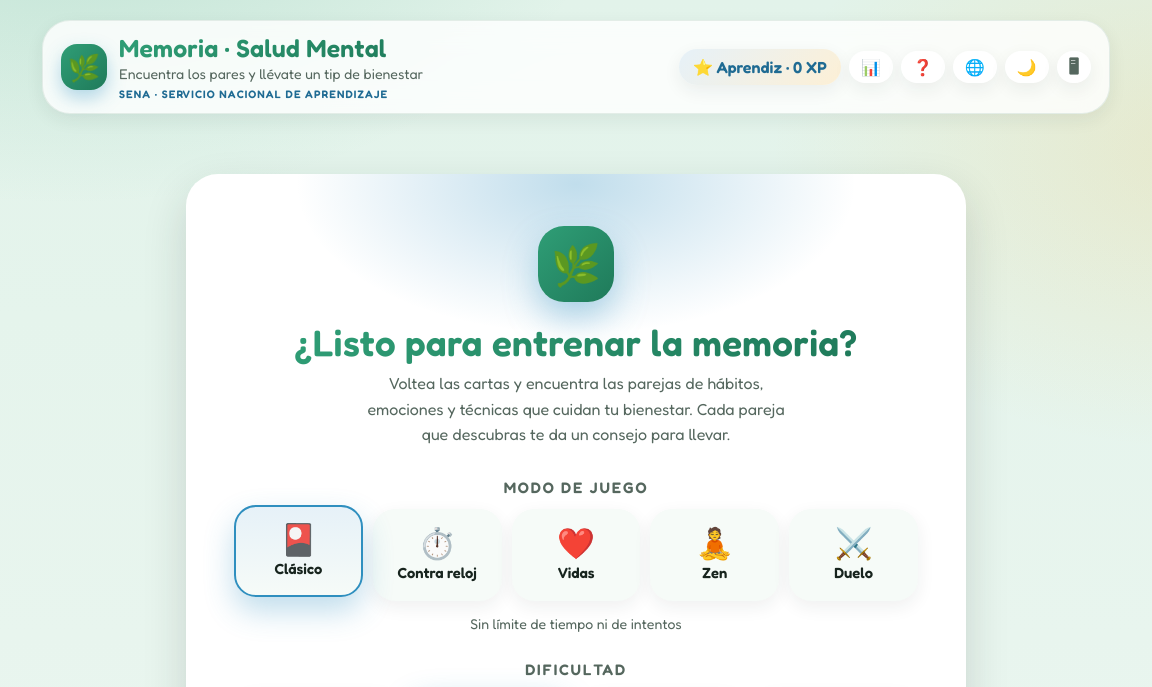
it: i18n › alterna entre inglés y español
Click the button named "Cambiar idioma": (975, 67) [953,51,997,83]
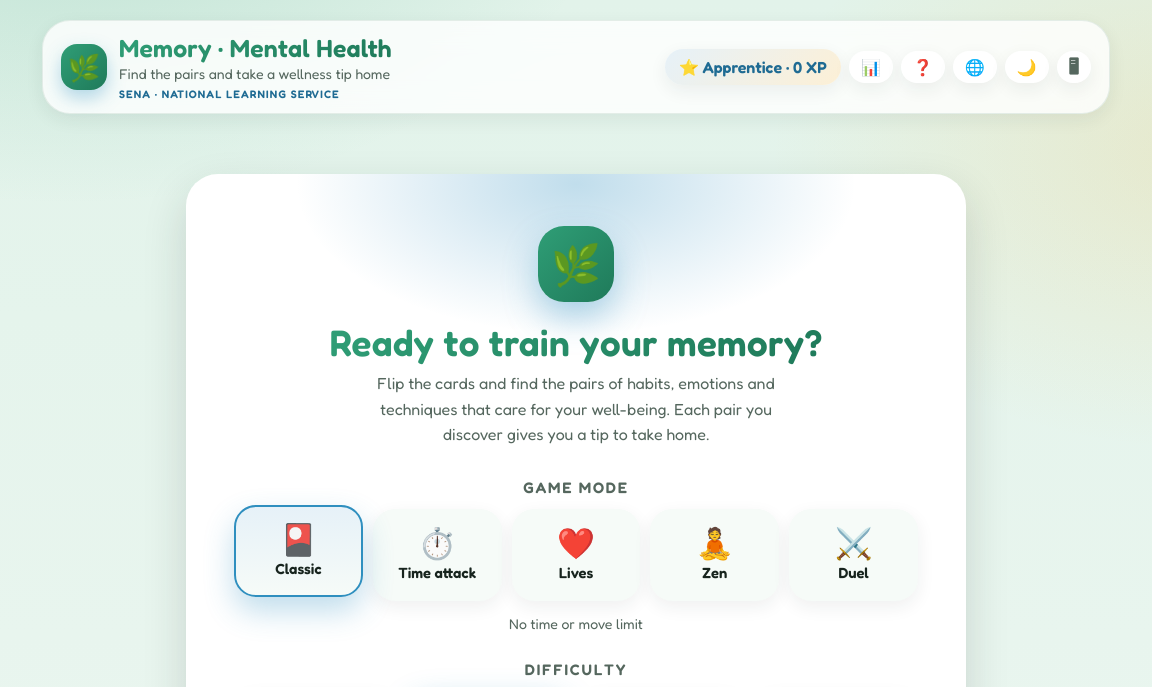
Check: the heading "Ready to train your memory?" is shown, box [330,320,823,365]
Click the button named "Change language": (975, 67) [953,51,997,83]
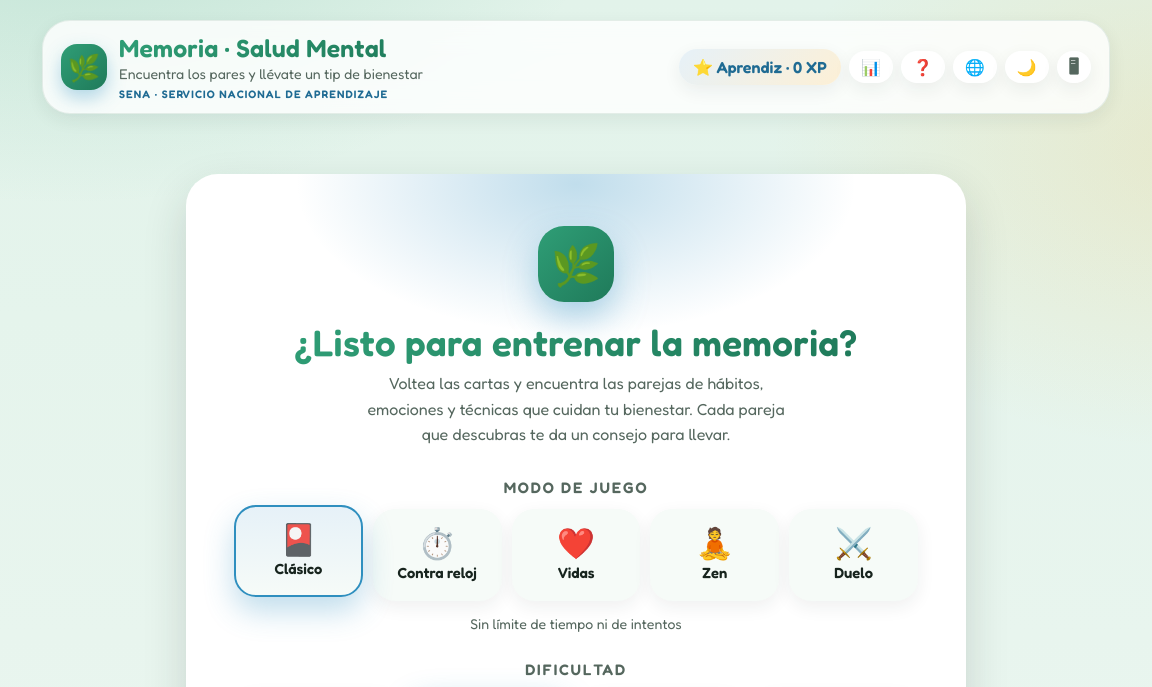
Check: the heading "¿Listo para entrenar la memoria?" is shown, box [295,320,857,365]
